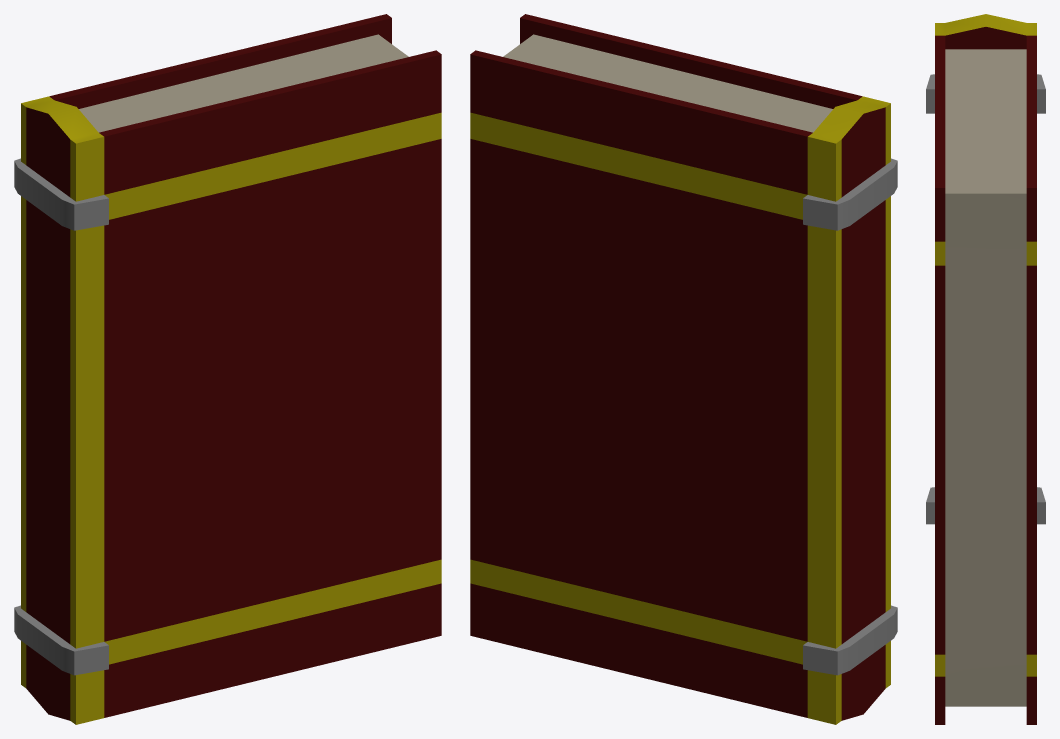
Rendered from libro_H.fbx.
3 views of the same model, side by side, from view 1: azimuth 30°, elevation 25°; view 2: azimuth 150°, elevation 25°; view 3: azimuth 270°, elevation 25° (orthographic). The views are drawn at different scales.
Visible parts, largest first — view 1: pCube1; view 2: pCube1; view 3: pCube1.
Part boxes in pixels (x1,y1,x2,y2): pCube1: [14, 14, 441, 724]; pCube1: [470, 14, 897, 724]; pCube1: [926, 14, 1045, 724].
Bounding box in the file's own units: 321 × 493 × 96.52.
